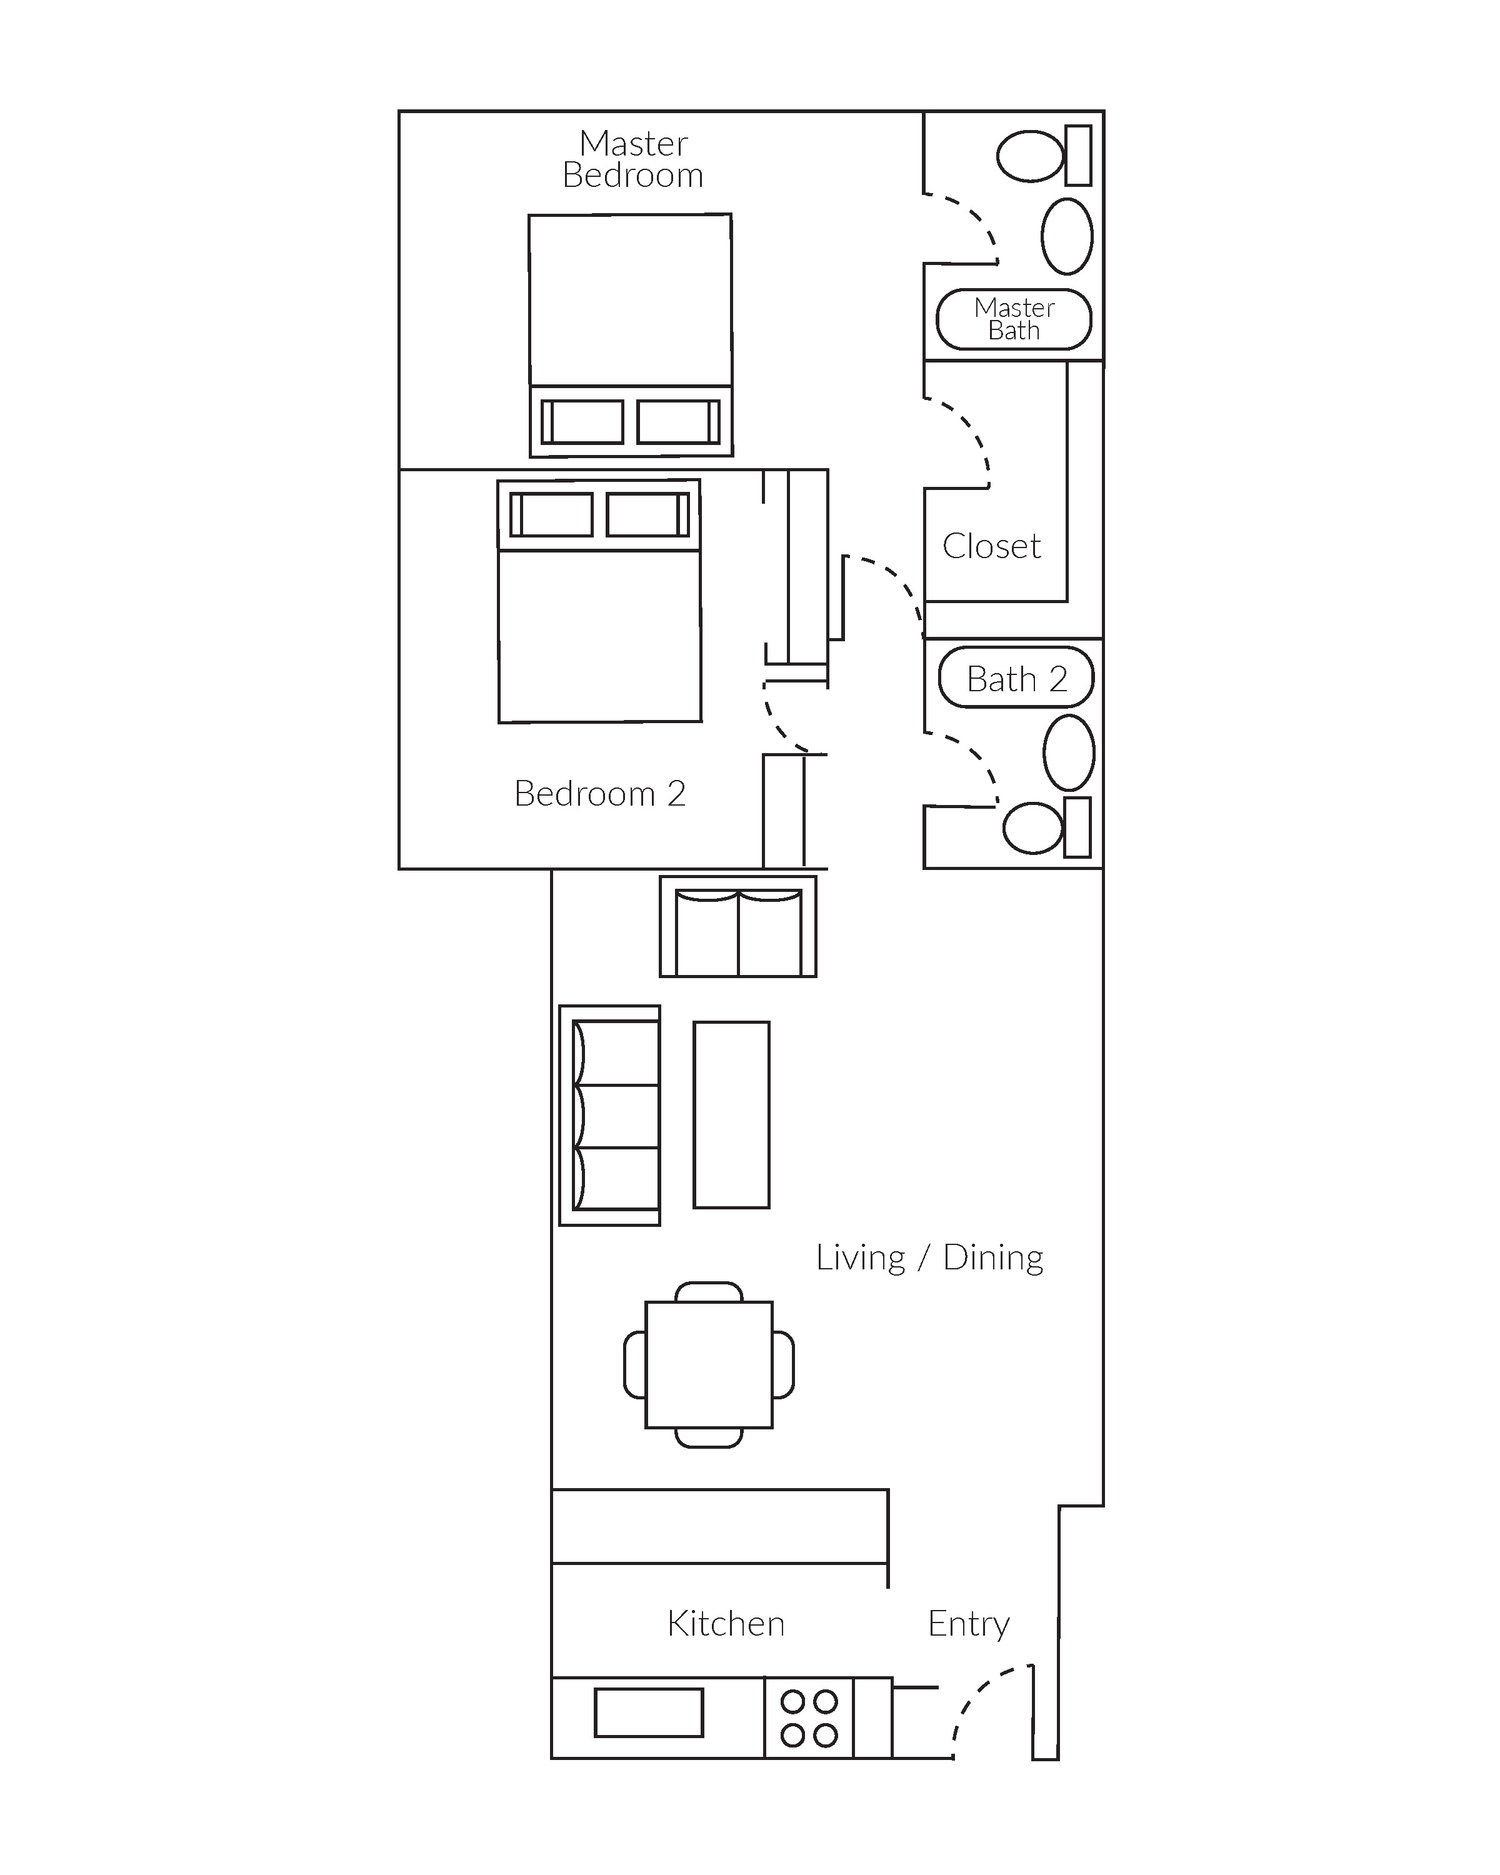room: (554, 869, 1071, 1757), (398, 471, 1105, 877), (398, 106, 1101, 481)
